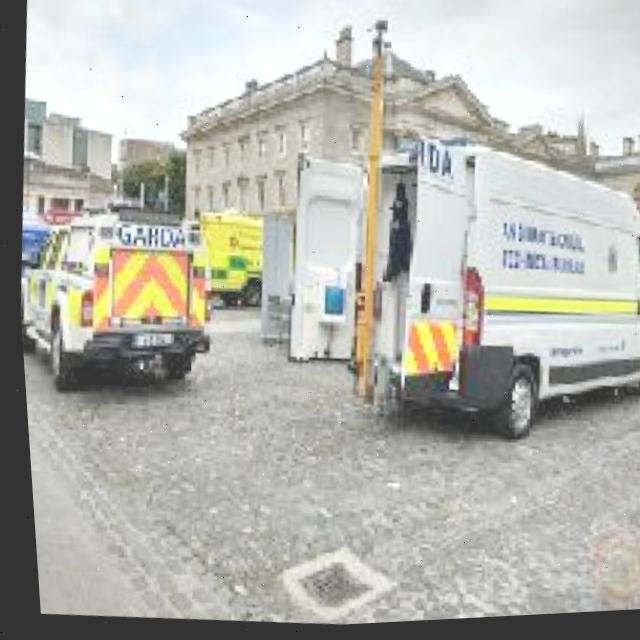emergency: (258, 107, 640, 468), (11, 202, 222, 407)
